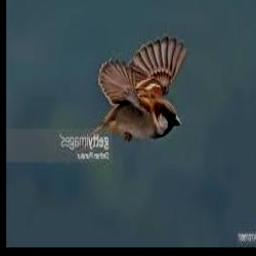Sparrow: (88, 33, 188, 144)
